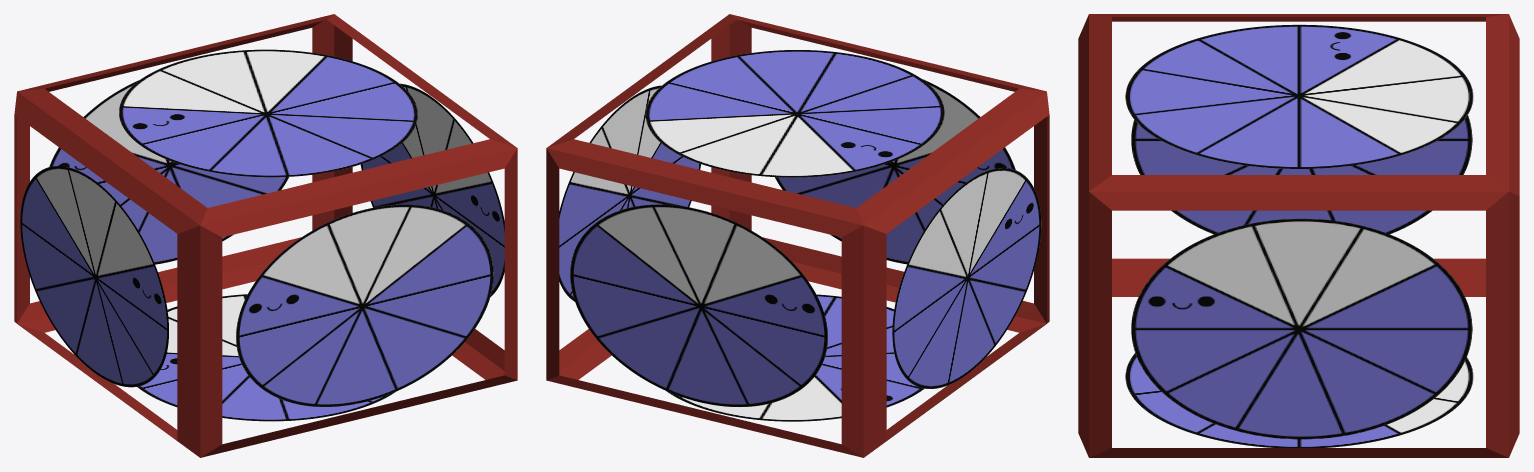
File: Fracciones siete decimos.fbx
3 renders of one model, left to right at view 1: azimuth 30°, elevation 25°; view 2: azimuth 150°, elevation 25°; view 3: azimuth 270°, elevation 25°, orthographic. The views are drawn at different scales.
Visible parts, largest first — view 1: 7/10; view 2: 7/10; view 3: 7/10.
Boxes of the visible parts, <box> form: 7/10: <box>14,14,517,457</box>; 7/10: <box>546,14,1049,457</box>; 7/10: <box>1078,14,1519,457</box>.
Size of the model in its own units: 213 by 147 by 210.
2 materials, 1 textured.
